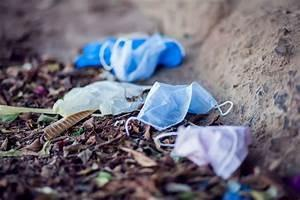Mask: (126, 82, 232, 133), (74, 34, 184, 81), (154, 126, 250, 178), (99, 34, 183, 81), (53, 81, 149, 115), (110, 35, 165, 81)
